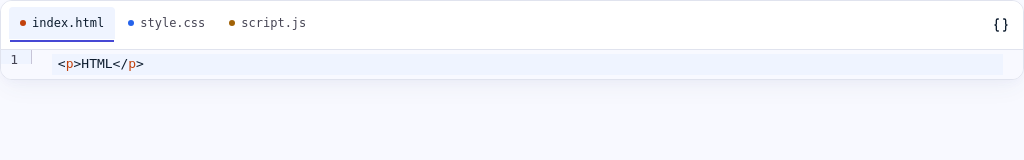
CodeEditor tabs › selects tabs with a single keyboard stop and labels the active panel
This screenshot has width=1024, height=160.
Click the tab "style.css" at (167, 23), box [117,7,216,39]
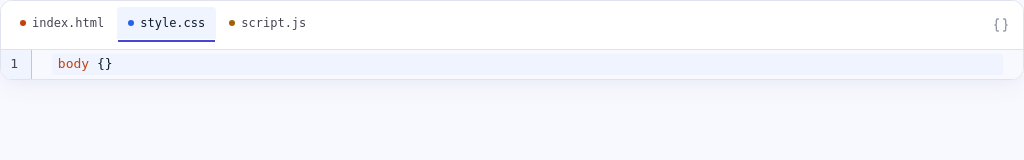
expect the panel named "style.css" shows "body {}": met, box [1,50,1023,79]
